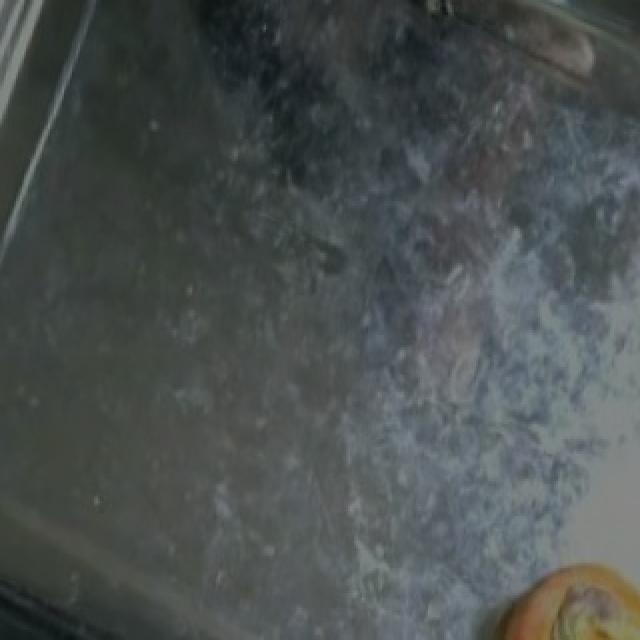Fruit: (472, 543, 640, 638)
